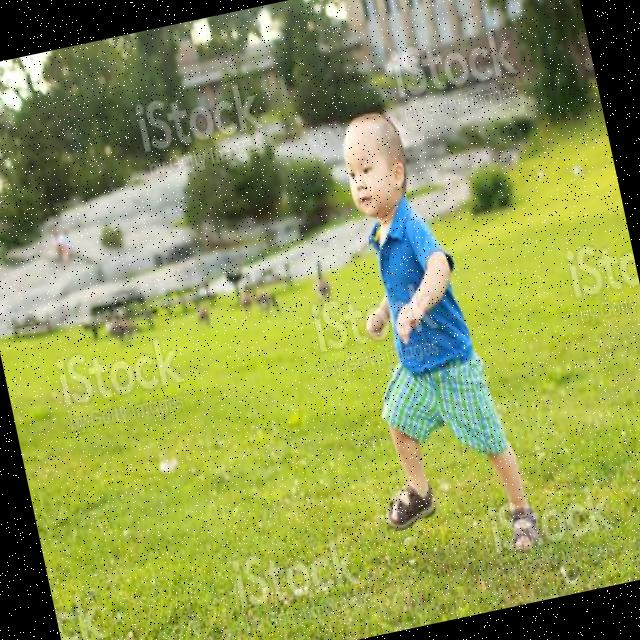Person: (306, 96, 540, 578)
